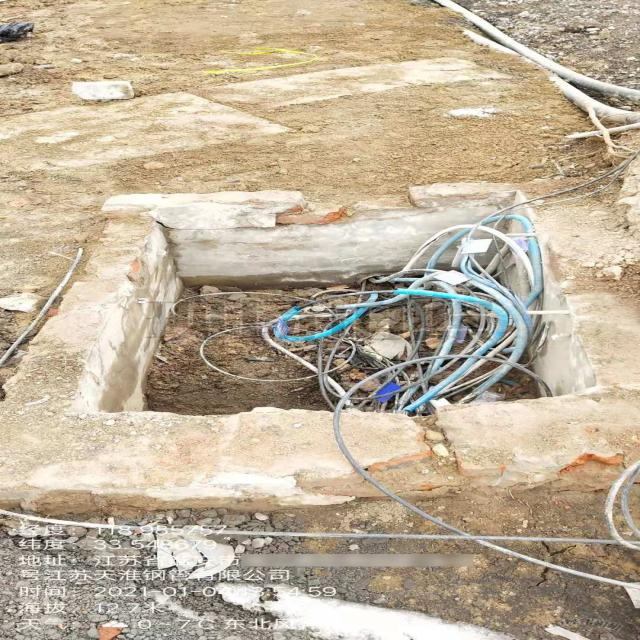Uncovered: (70, 200, 616, 418)
